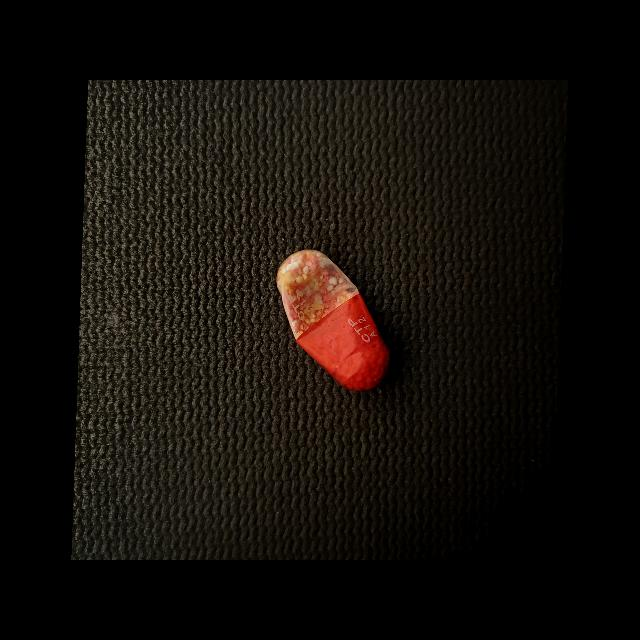Defective Capsule: (276, 250, 390, 391)
